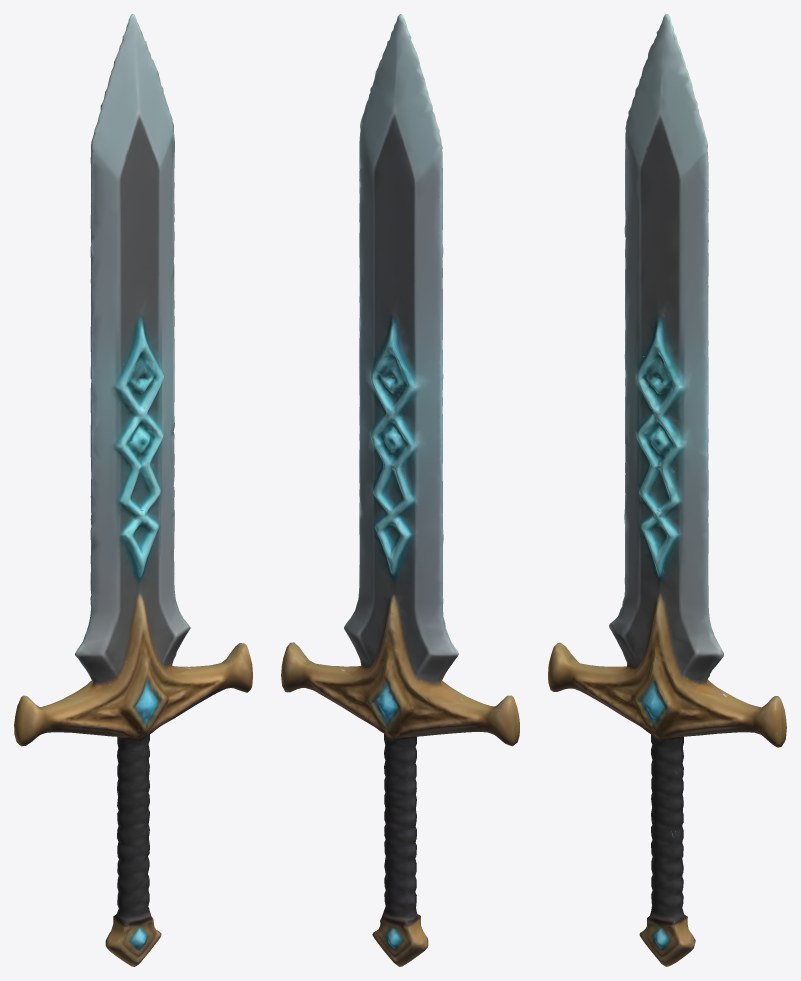
The model's file is sword.glb.
3 views of the same model, side by side, from view 1: azimuth 30°, elevation 25°; view 2: azimuth 150°, elevation 25°; view 3: azimuth 330°, elevation 25° (orthographic).
Parts seen in each view (by area): view 1: Mesh1.0; view 2: Mesh1.0; view 3: Mesh1.0.
Part boxes in pixels (x1,y1,x2,y2): Mesh1.0: (14,14,252,966); Mesh1.0: (281,14,519,966); Mesh1.0: (548,14,786,966).
Bounding box in the file's own units: 0.4914 × 1.9 × 0.1178.
Materials: 1 (1 with a texture image).
